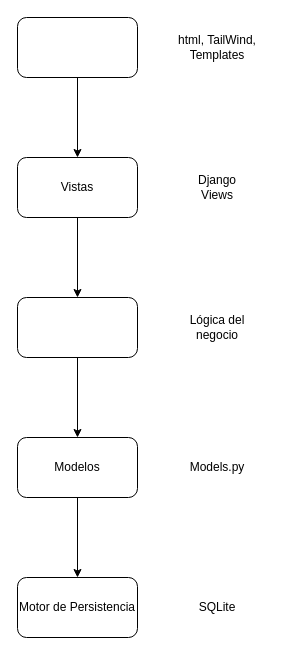
Some shapes in this 295 by 655 pixel diagram are drawn without their labels. Each missing label, with the centre of its shape:
Lógica: pixel 77 327
Presentación: pixel 77 47
